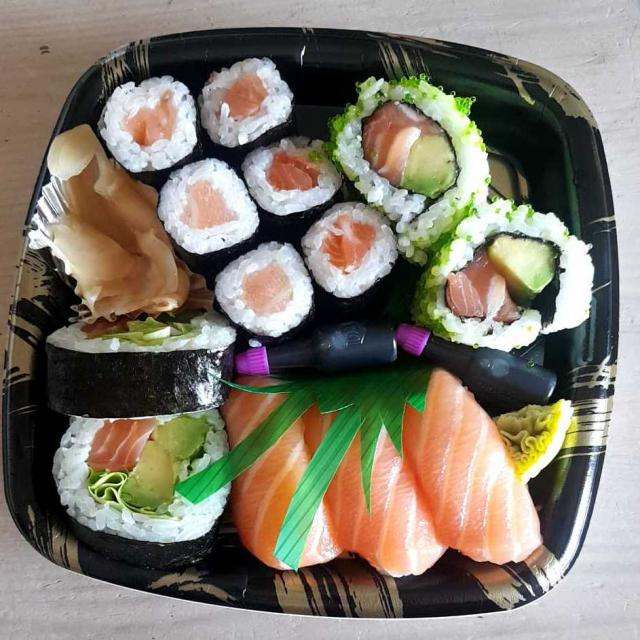sauce-soya: (239, 317, 583, 427)
sushi: (36, 58, 633, 578), (31, 54, 593, 581)
